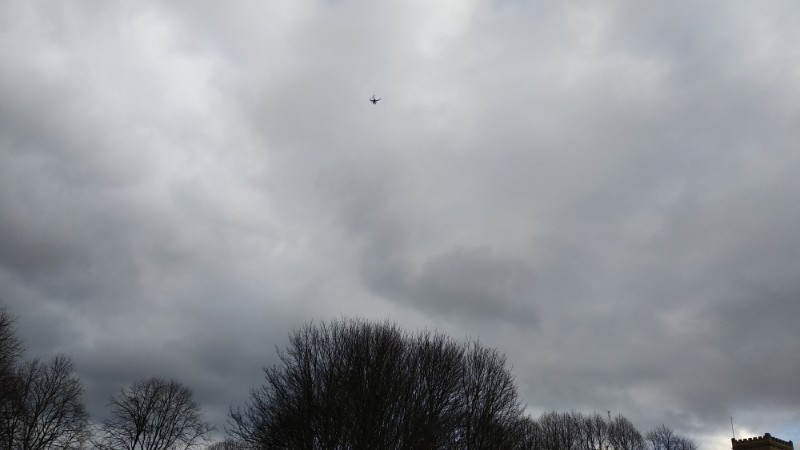drone: (368, 95, 382, 107)
